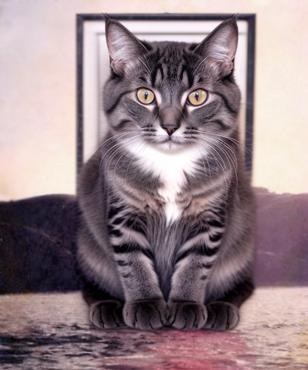cat: (75, 13, 256, 329)
